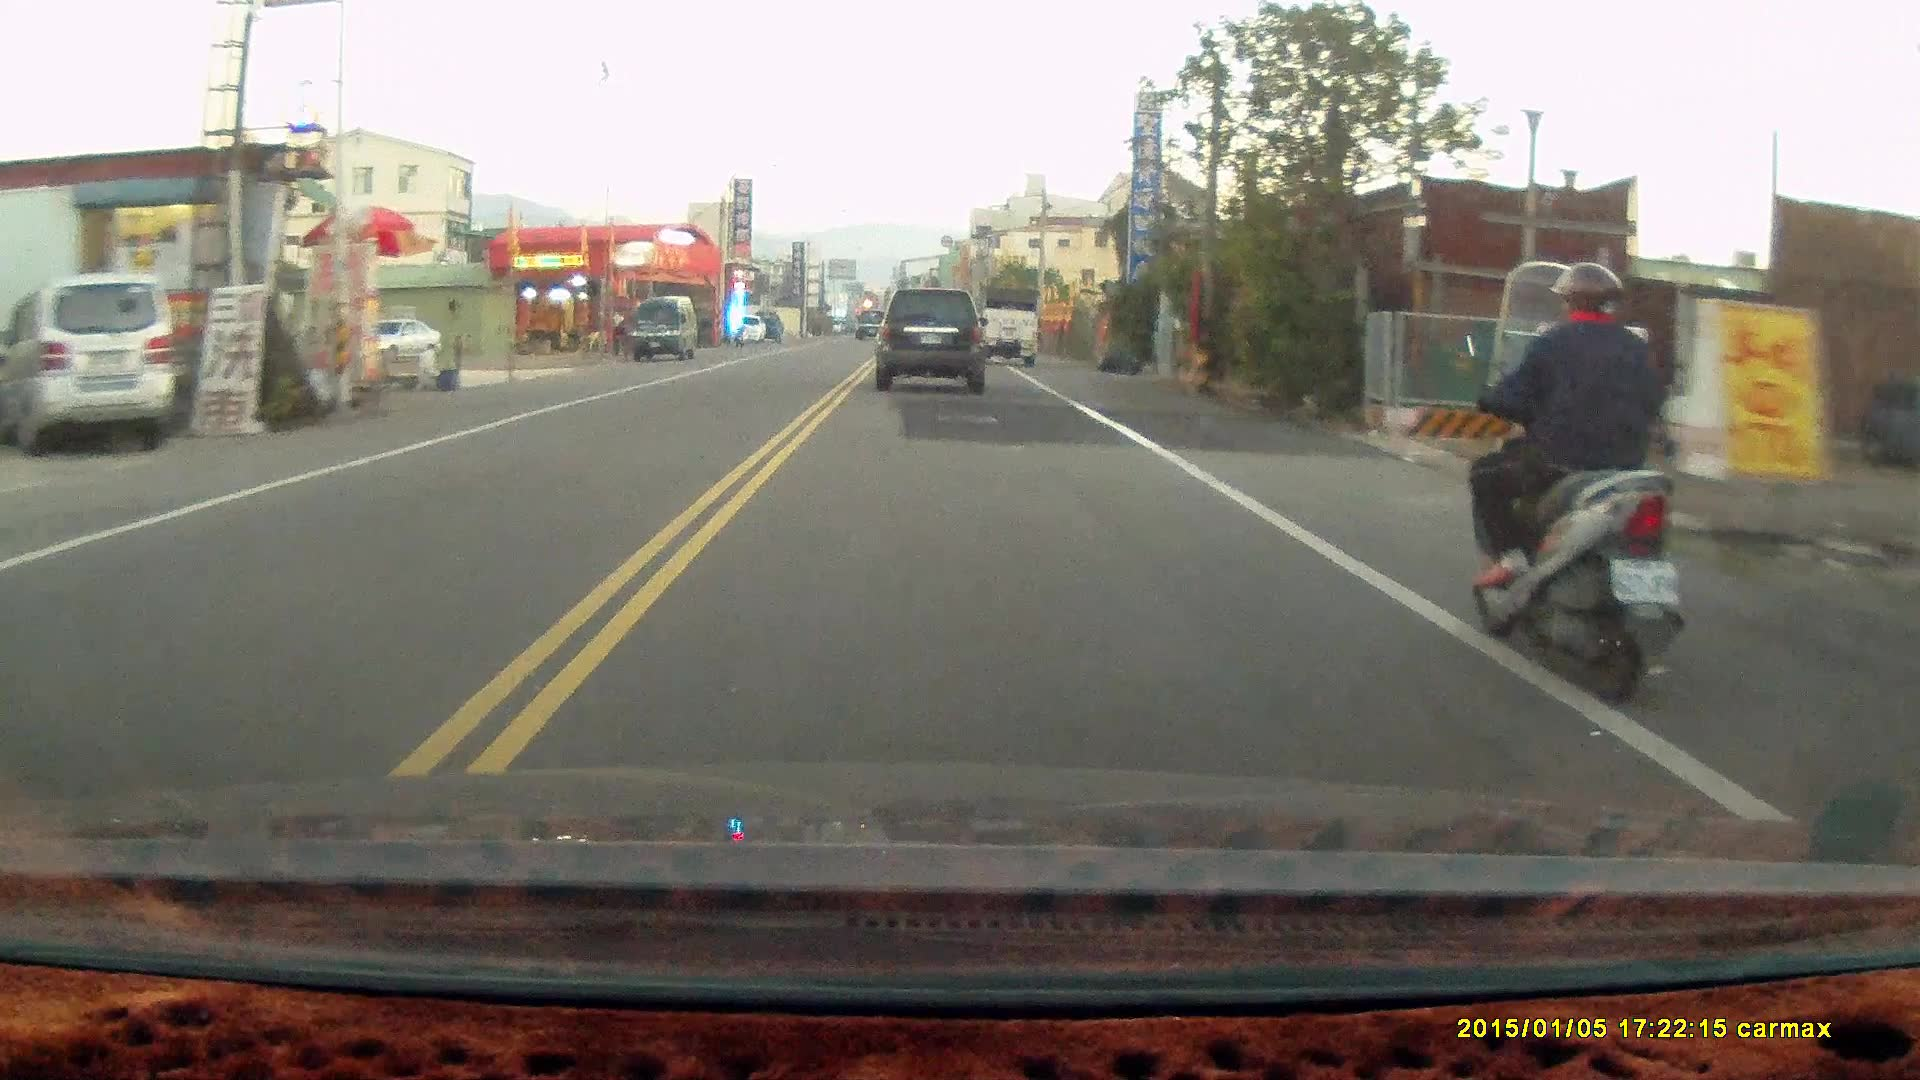rider: (1459, 261, 1685, 712)
vehicle: (12, 271, 180, 454), (878, 281, 994, 392), (980, 285, 1042, 366), (632, 295, 698, 361), (358, 317, 442, 364)
